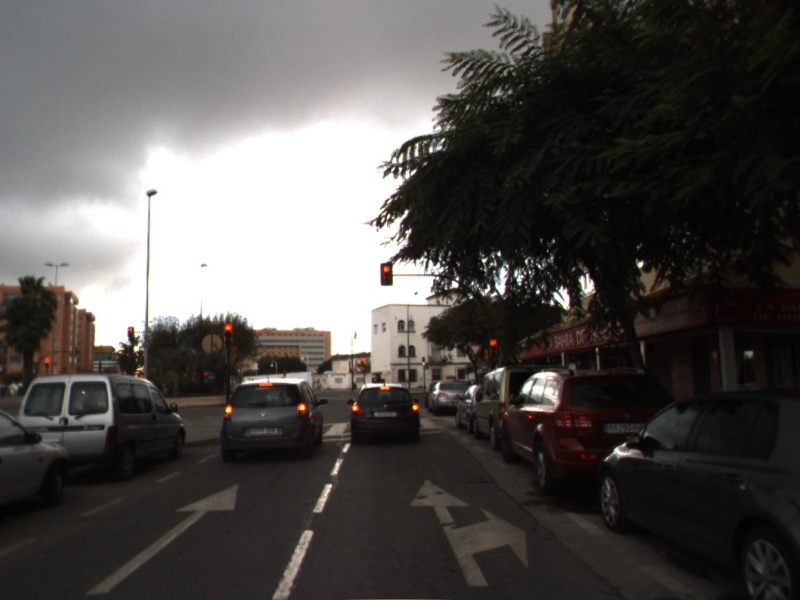STRAIGHT: (84, 481, 240, 596)
STRAIGHT_RIGHT: (407, 477, 529, 588)
